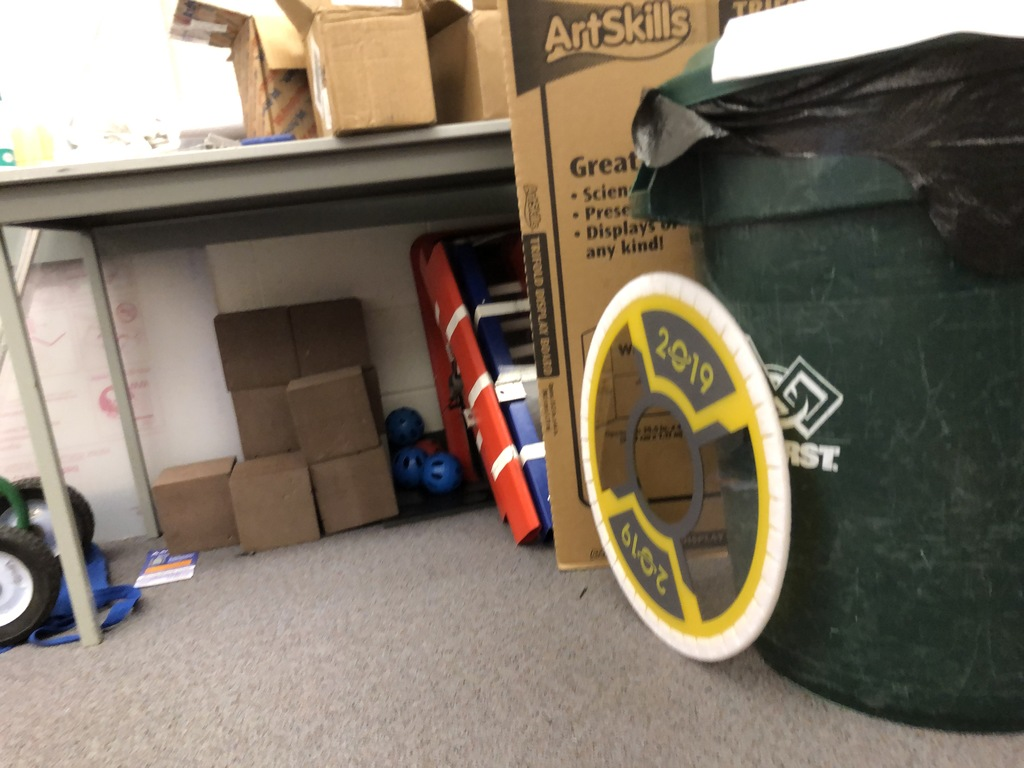hatch_panel: (566, 242, 805, 691)
